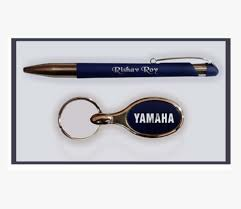pen: (21, 51, 223, 77)
